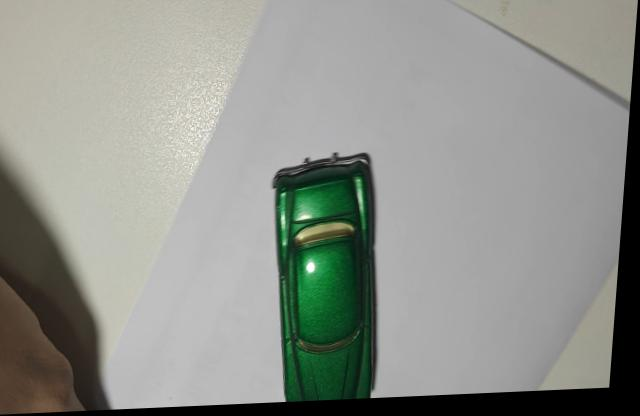06_MASERATI: (274, 155, 384, 405)
